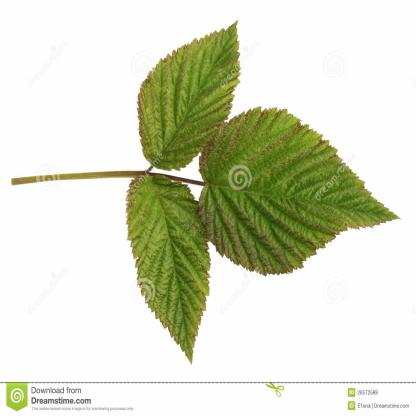raspberry leaf: (198, 107, 405, 277), (125, 173, 215, 368), (136, 19, 241, 175)
